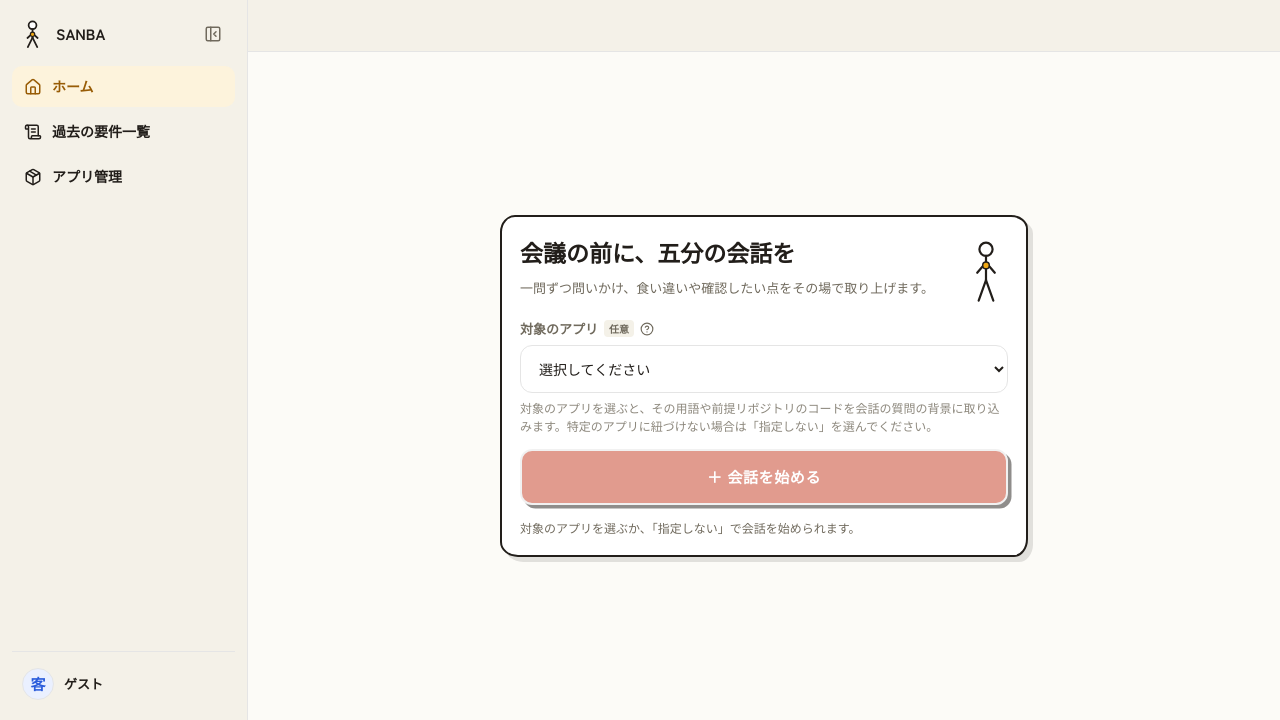
Scenario: 入口フロー（#140） › 「指定しない」を選ぶとアプリ無しで CTA が活性化する（ADR-0071）
Expected: the button "＋ 会話を始める" is disabled, [520,448,1008,505]
Select "指定しない" in the dropdown labelled "対象のアプリ" at (764, 368), box [520,344,1008,392]
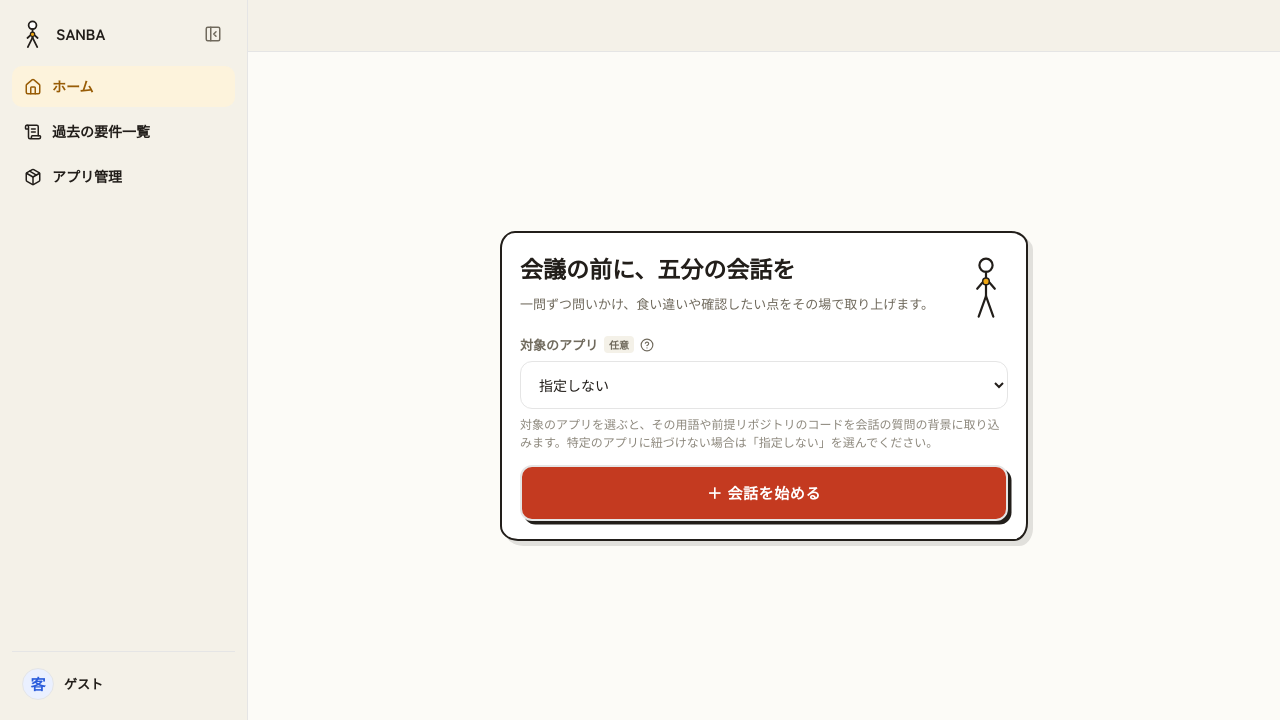
Result: the button "＋ 会話を始める" is enabled at [520,464,1008,521]
Result: the text "対象のアプリを選ぶか、「指定しない」で会話を始められます。" is gone
